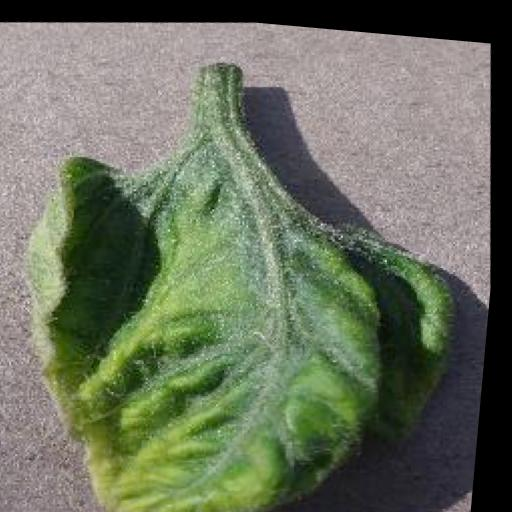Yellow Leaf Curl Virus: (1, 115, 489, 512)
